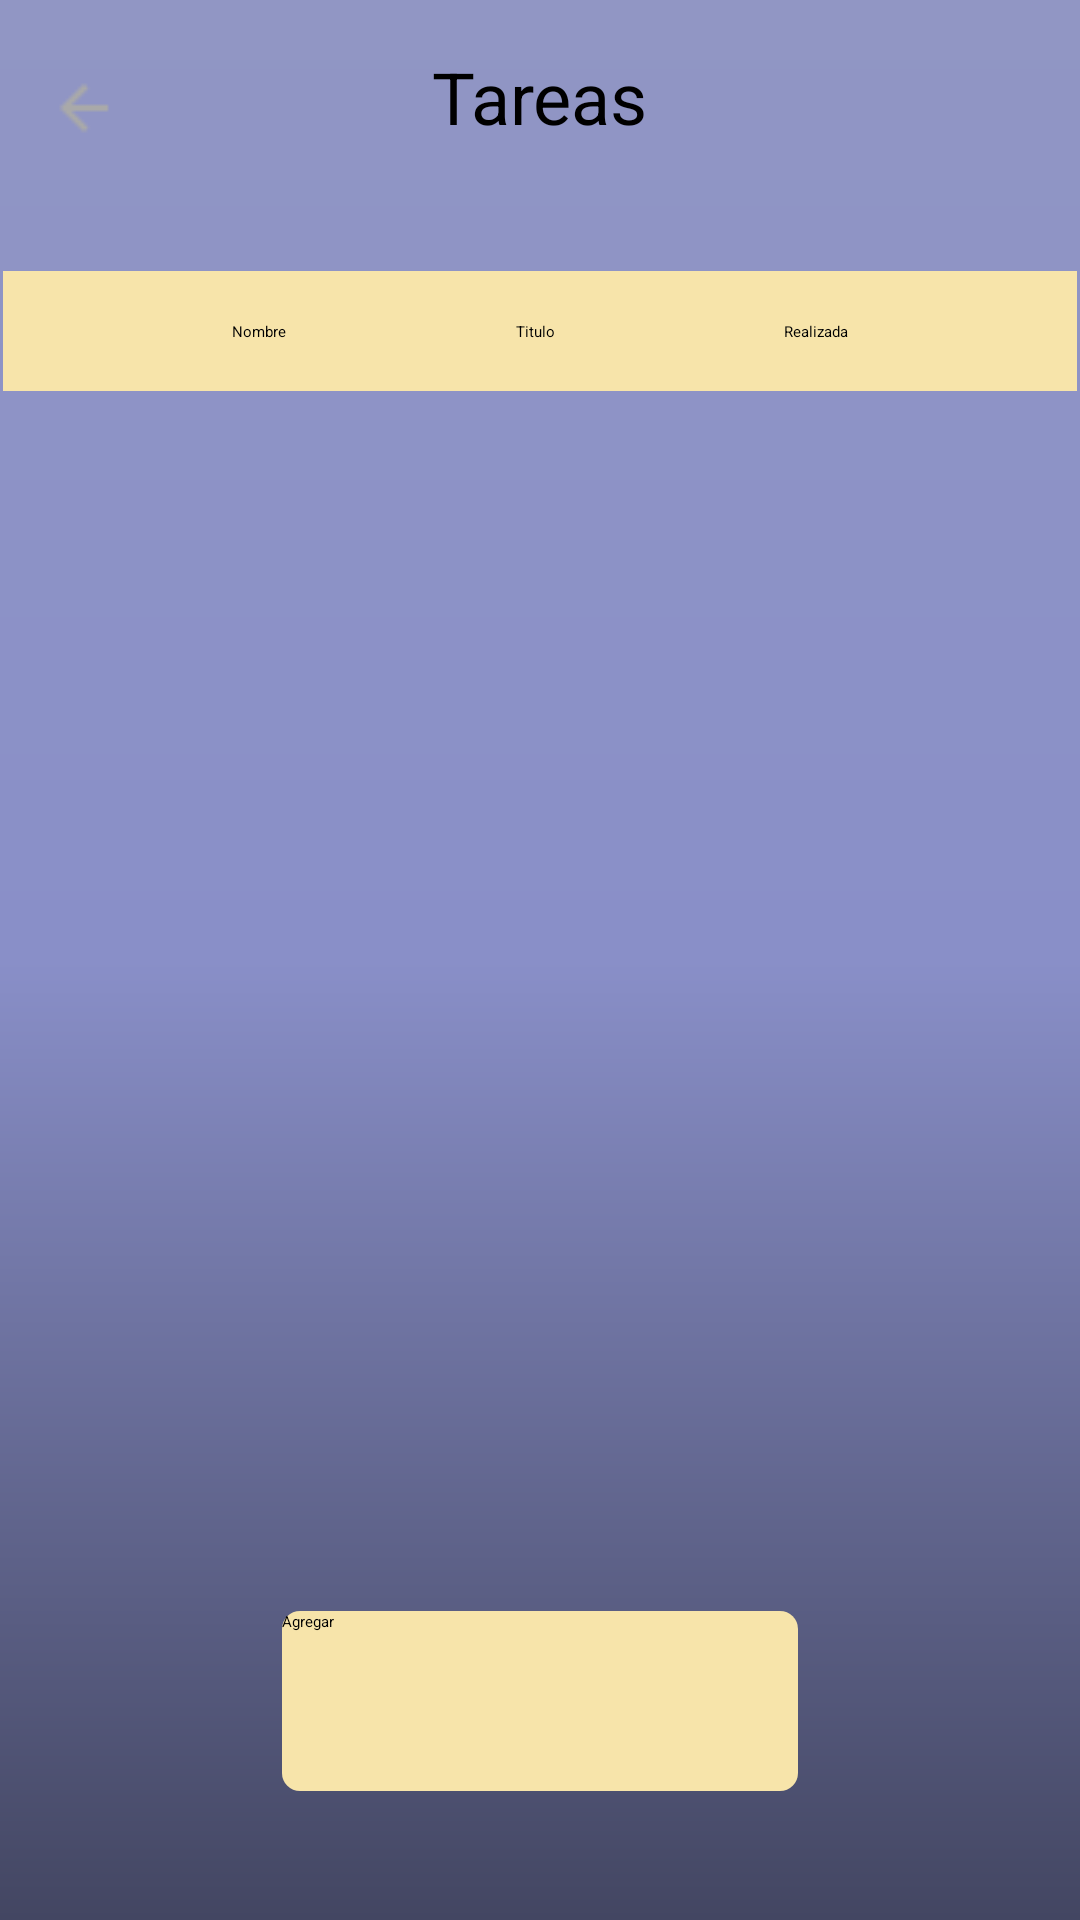

Point at icon controls on the screen. Image size 1080x1920, points as point (x, y).
flecha: point (85, 108)
